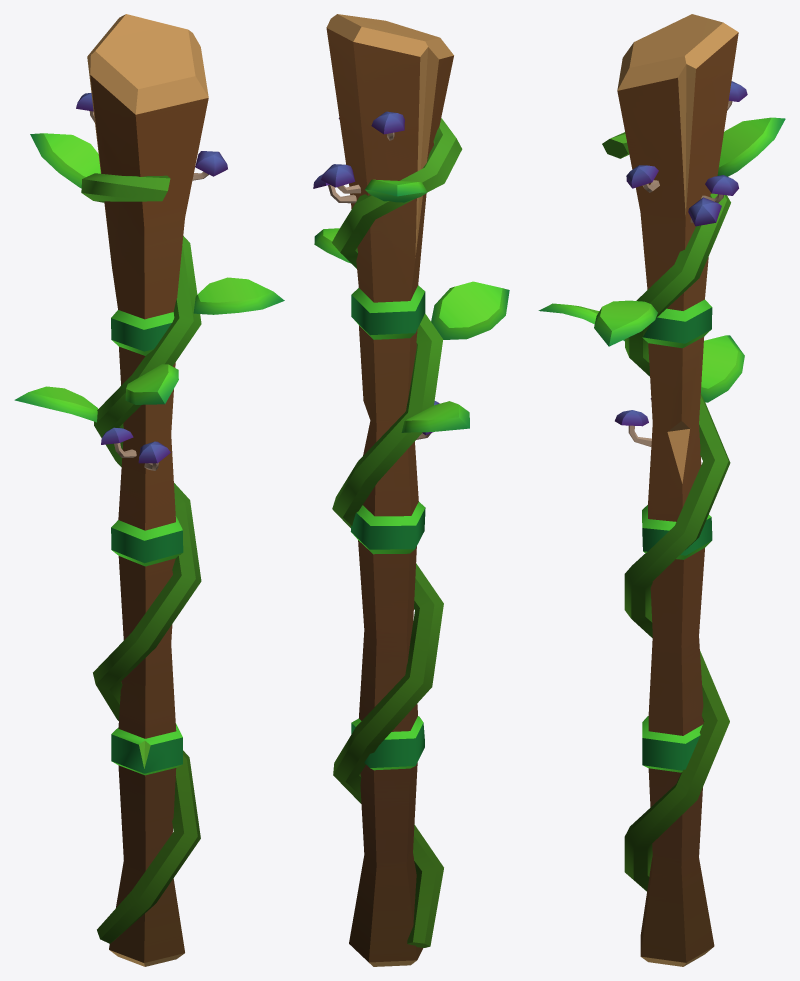
Rendered from DruidStaff_2_1_A.glb.
3 views of the same model, side by side, from view 1: azimuth 30°, elevation 25°; view 2: azimuth 150°, elevation 25°; view 3: azimuth 270°, elevation 25° (orthographic). The views are drawn at different scales.
Parts seen in each view (by area): view 1: DruidStaff_2_1_A; view 2: DruidStaff_2_1_A; view 3: DruidStaff_2_1_A.
Part boxes in pixels (box(x1,y1,x2,y2)): DruidStaff_2_1_A: box(14, 14, 284, 966); DruidStaff_2_1_A: box(313, 14, 509, 966); DruidStaff_2_1_A: box(538, 14, 785, 966).
Bounding box in the file's own units: 0.3182 × 1.33 × 0.3196.
1 material, 1 textured.
